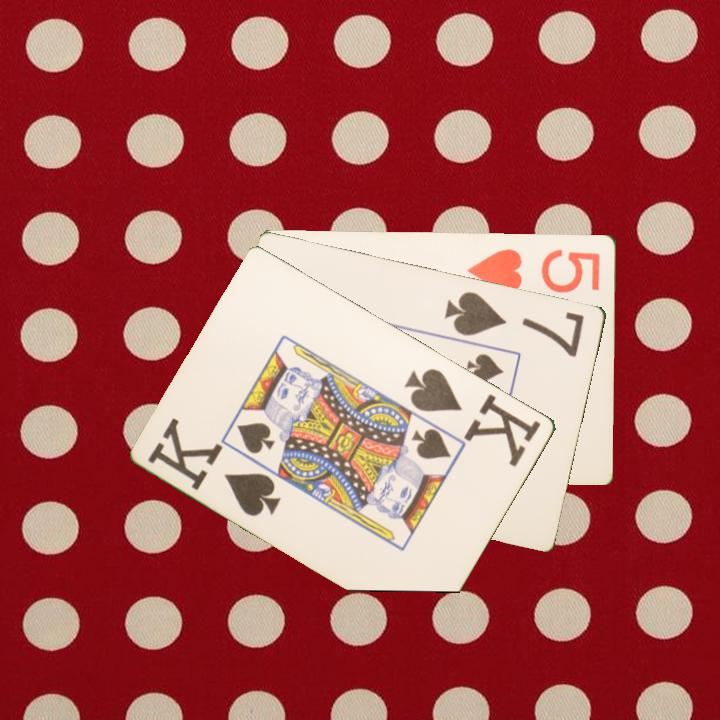5h: (464, 245, 603, 295)
7s: (442, 287, 588, 360)
Ks: (401, 364, 545, 469), (144, 414, 285, 520)
